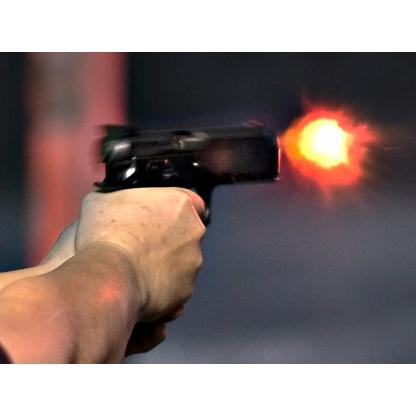gun: (84, 119, 280, 337)
